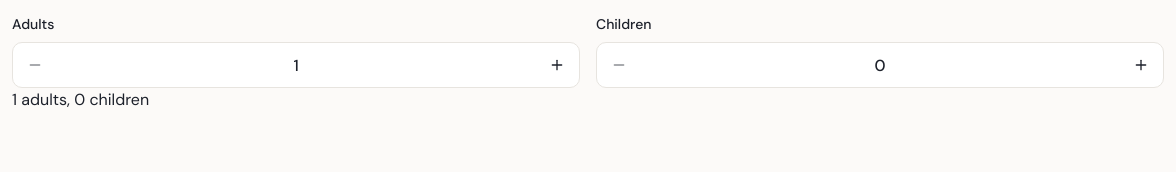
Test: GuestCountFields › lets guests add children and reduce the count back to zero
Click the button named "Add one child".
click(1141, 65)  # box [1119, 43, 1163, 87]
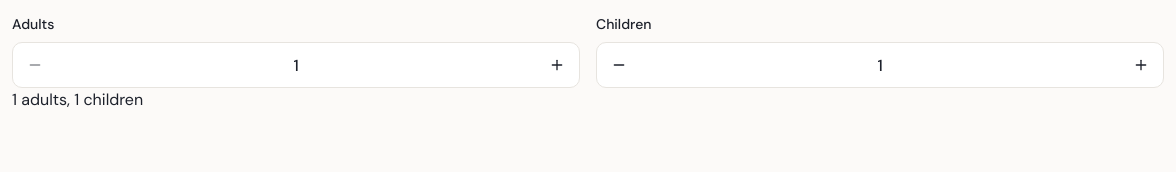
Result: the text named "Party size" reads "1 adults, 1 children" at [12, 89, 143, 110]
Click the button named "Remove one child".
click(619, 65)  # box [597, 43, 641, 87]
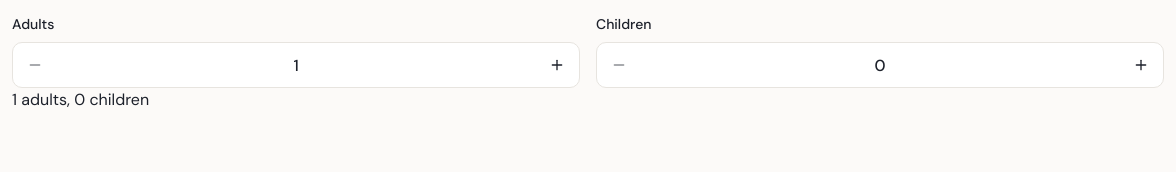
Result: the number field labelled "Children" holds "0" at [641, 43, 1119, 87]
Result: the text named "Party size" reads "1 adults, 0 children" at [12, 89, 149, 110]
